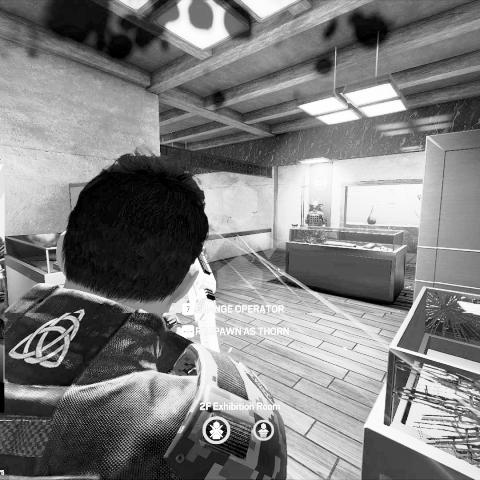Character: (0, 148, 289, 480)
Head: (57, 154, 209, 306)
